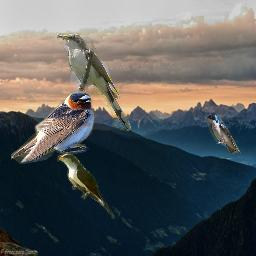Cuckoo: (57, 33, 131, 131), (57, 152, 115, 219)
Swallow: (11, 91, 94, 165), (205, 114, 241, 154)
